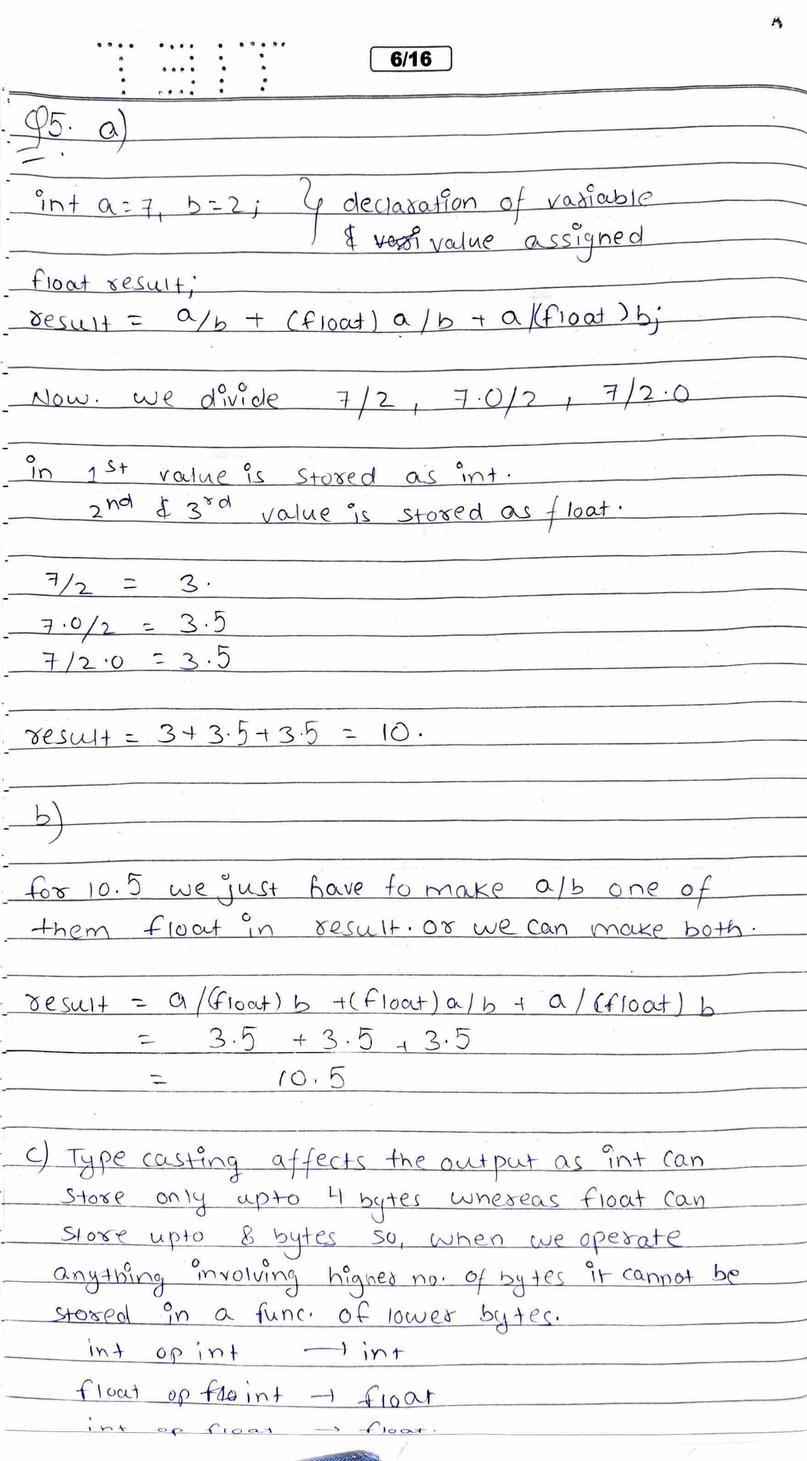cuttings: (373, 225, 421, 251), (200, 1379, 238, 1403), (344, 224, 358, 252)
